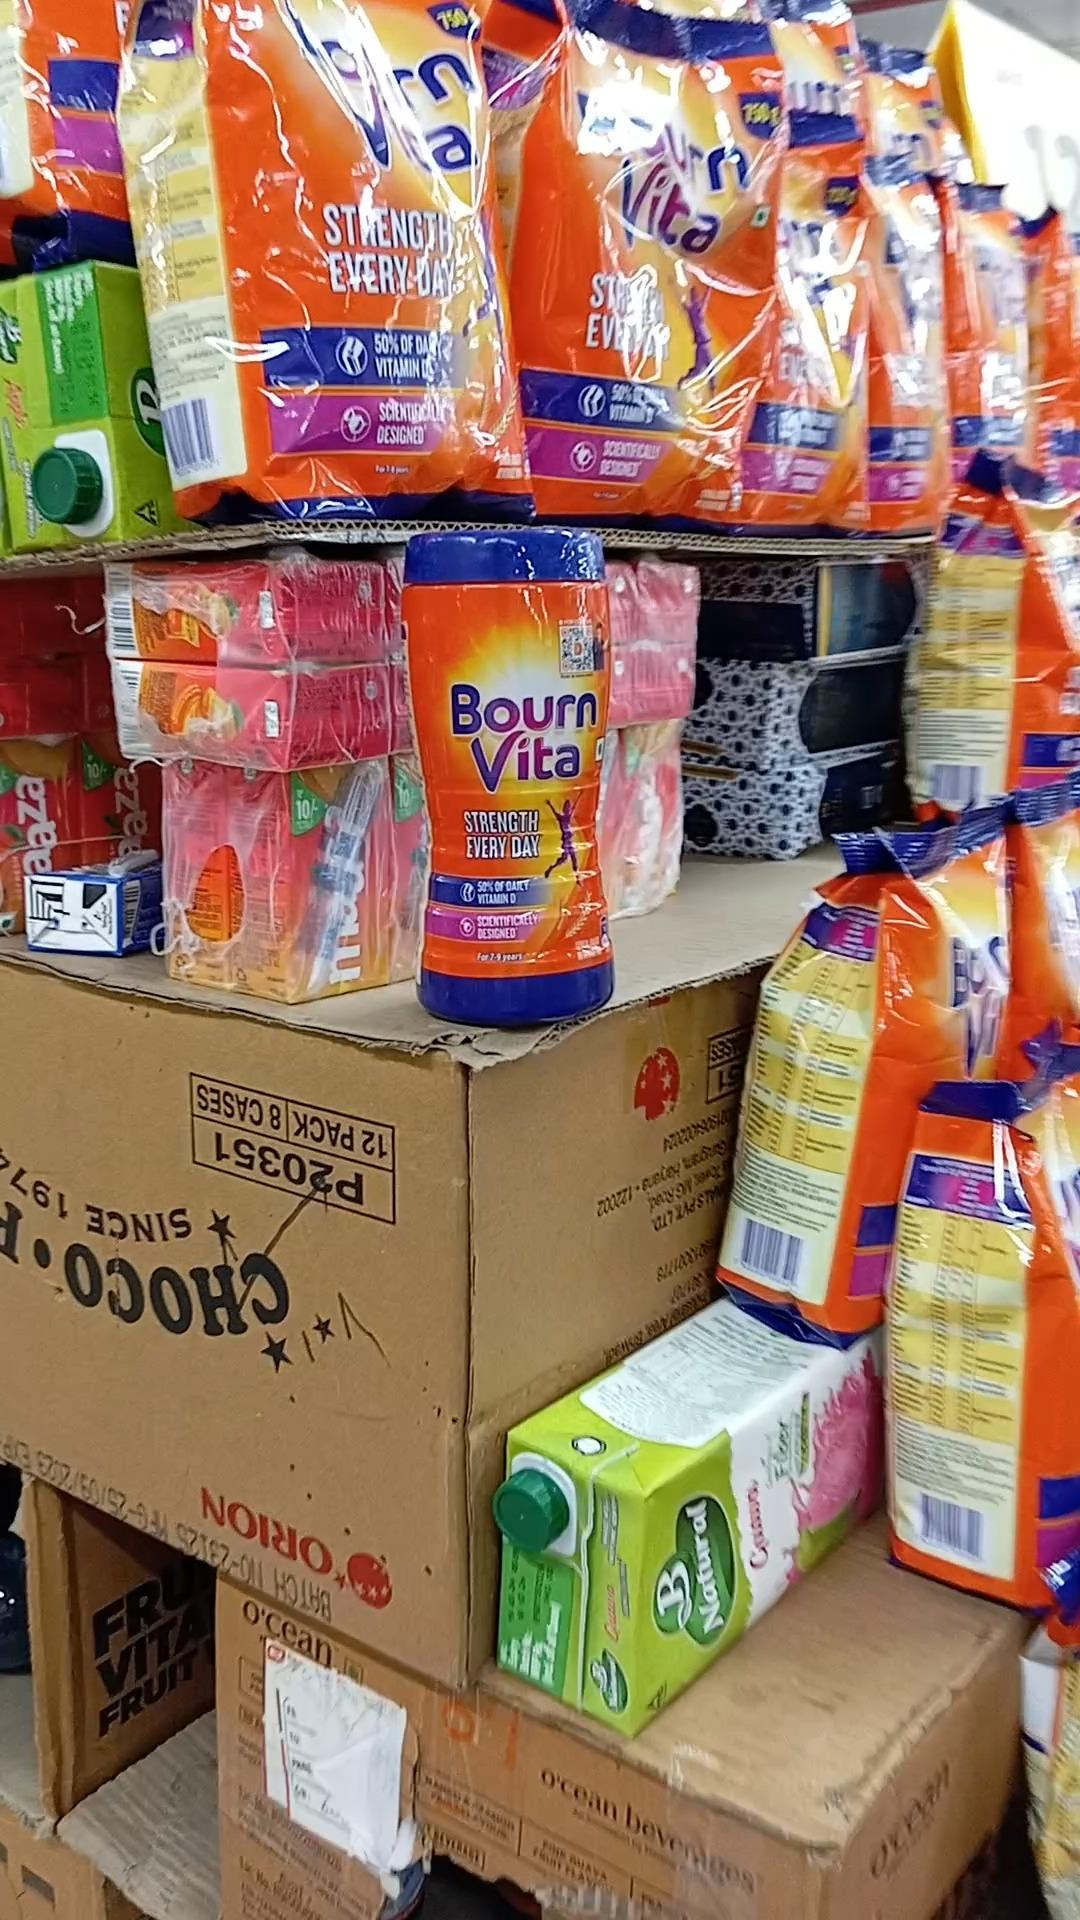BOURN_VITA_200_G_JAR: (417, 524, 608, 1018)
